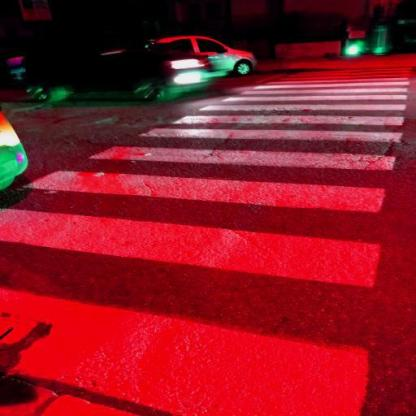crosswalk: (1, 203, 397, 415), (74, 127, 410, 174)
